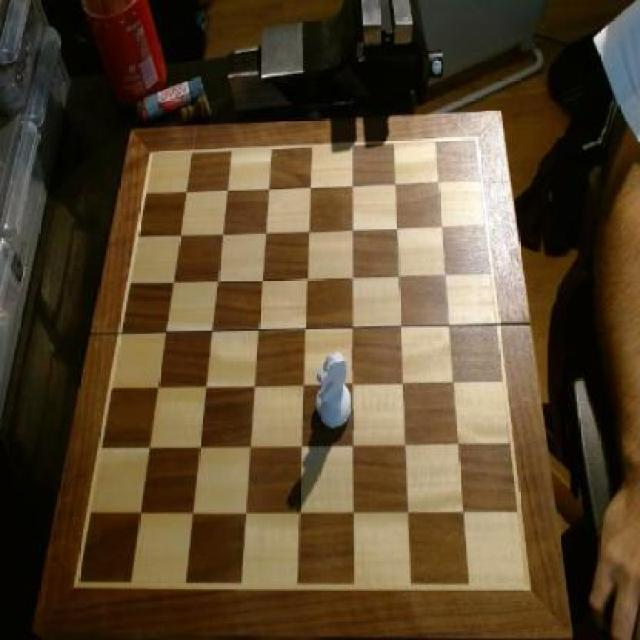white-king: (314, 349, 354, 432)
